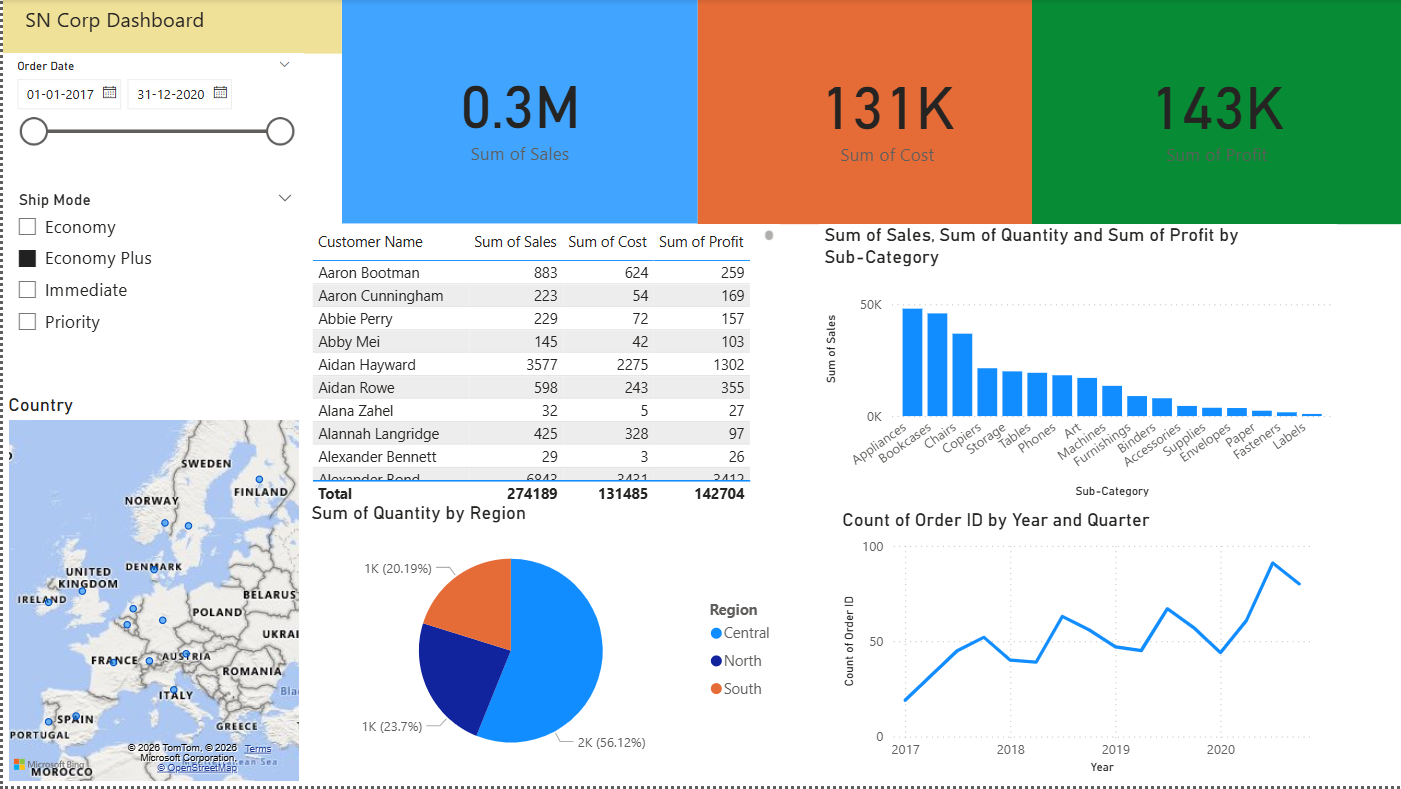

The dashboard page shown, as its layout file describes it:
{"tool":"powerbi","page":{"name":"Page 1","canvas":[1280,720],"ordinal":0},"visuals":[{"type":"card","fields":{"Values":["Sum(List of Orders.Cost)"]},"box":[636,0,346.8,205.9],"z":0},{"type":"card","fields":{"Values":["Sum(List of Orders.Profit)"]},"box":[941.8,0,337.7,205.9],"z":1000},{"type":"card","fields":{"Values":["Sum(List of Orders.Sales)"]},"box":[310,0,325,205],"z":2000},{"type":"tableEx","fields":{"Values":["List of Orders.Customer Name","Sum(List of Orders.Sales)","Sum(List of Orders.Cost)","Sum(List of Orders.Profit)"]},"box":[277.1,205.9,433.1,260.4],"z":3000},{"type":"clusteredColumnChart","fields":{"Category":["List of Orders.Sub-Category"],"Y":["Sum(List of Orders.Sales)"]},"box":[746.5,205.9,473.9,254.4],"z":4000},{"type":"lineChart","fields":{"Y":["CountNonNull(List of Orders.Order ID)"],"Category":["List of Orders.Order Date.Variation.Date Hierarchy.Year","List of Orders.Order Date.Variation.Date Hierarchy.Quarter"]},"box":[763.2,466.4,440.6,246.8],"z":5000},{"type":"pieChart","fields":{"Category":["List of Orders.Region"],"Y":["Sum(List of Orders.Quantity)"]},"box":[277.1,460.3,439.1,252.9],"z":6000},{"type":"map","fields":{"Category":["List of Orders.Country"]},"box":[0,360.4,275.6,358.9],"z":7000},{"type":"textbox","box":[0,0,310,50],"z":8000},{"type":"slicer","fields":{"Values":["List of Orders.Ship Mode"]},"box":[1.5,169.6,275.6,190.8],"z":9000},{"type":"slicer","fields":{"Values":["List of Orders.Order Date"]},"box":[0,50,275,120],"z":10000}]}

Visuals, with their boxes in screenshot pixels (x1, y1, x2, y2), scaled from the page's 1280x720 canvas onto the 1401x789 screenshot:
card - Sum(List of Orders.Cost): <box>696,0,1076,226</box>
card - Sum(List of Orders.Profit): <box>1031,0,1400,226</box>
card - Sum(List of Orders.Sales): <box>339,0,695,225</box>
tableEx - List of Orders.Customer Name x Sum(List of Orders.Sales): <box>303,226,777,511</box>
clusteredColumnChart - List of Orders.Sub-Category x Sum(List of Orders.Sales): <box>817,226,1336,504</box>
lineChart - CountNonNull(List of Orders.Order ID) x List of Orders.Order Date.Variation.Date Hierarchy.Year: <box>835,511,1318,782</box>
pieChart - List of Orders.Region x Sum(List of Orders.Quantity): <box>303,504,784,782</box>
map - List of Orders.Country: <box>0,395,302,788</box>
textbox: <box>0,0,339,55</box>
slicer - List of Orders.Ship Mode: <box>2,186,303,395</box>
slicer - List of Orders.Order Date: <box>0,55,301,186</box>
